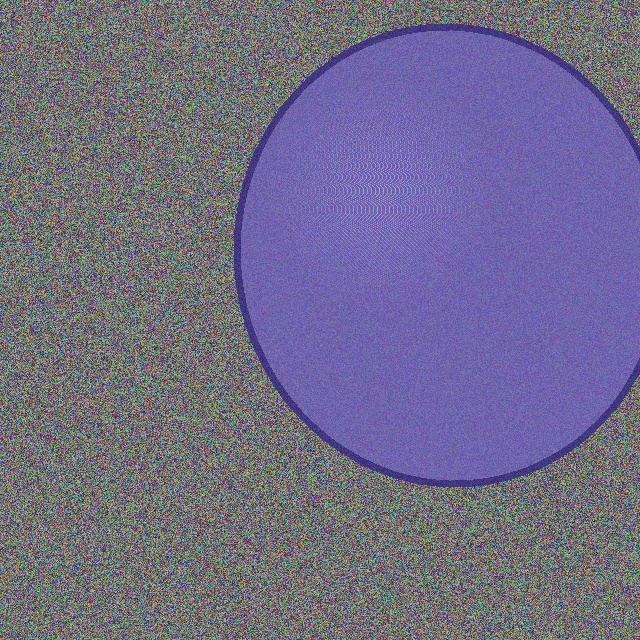lens: (238, 28, 640, 482)
